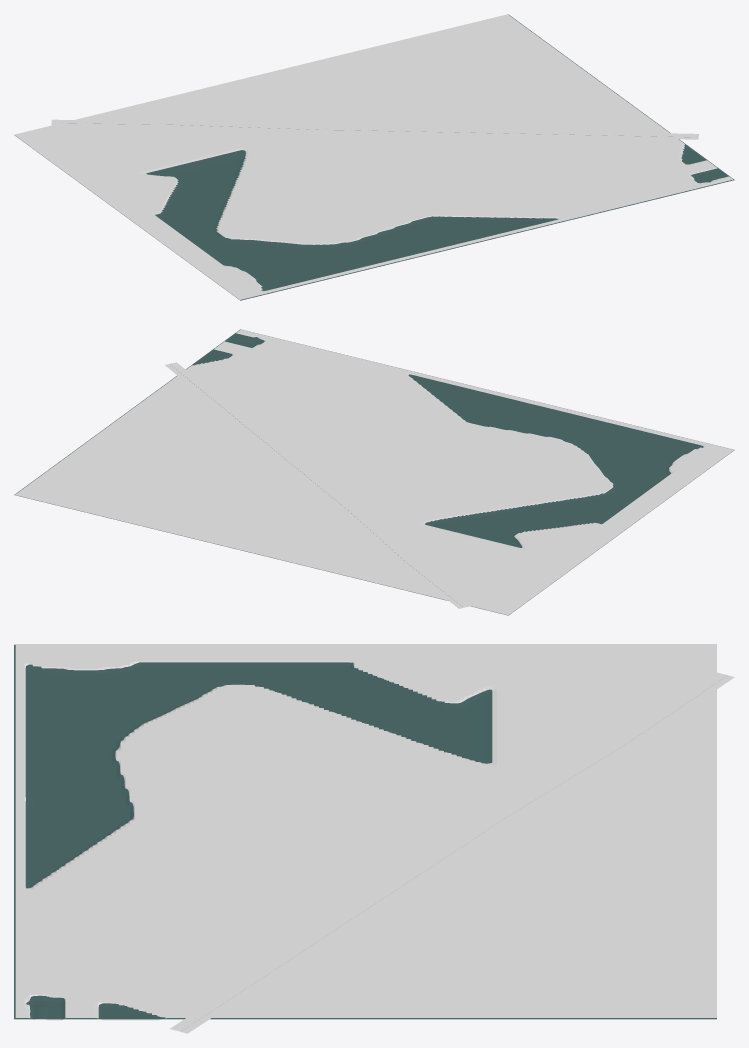
Rendered from grammy_ground.glb.
3 renders of one model, top to bottom at view 1: azimuth 30°, elevation 25°; view 2: azimuth 150°, elevation 25°; view 3: azimuth 270°, elevation 25°, orthographic. The views are drawn at different scales.
Visible parts, largest first — view 1: terrain, lake, road_Waterways Blvd L, road_Waterways Blvd R, median_grass, road_SW 42nd Terrace, road_south loop, road_SW 11th St, gutter_Waterways Blvd L.001, gutter_Waterways Blvd R.001, gutter_Waterways Blvd L; view 2: terrain, lake, road_Waterways Blvd R, road_Waterways Blvd L, median_grass, road_SW 42nd Terrace, road_south loop, road_SW 11th St; view 3: terrain, lake, road_Waterways Blvd R, road_Waterways Blvd L, median_grass, road_SW 42nd Terrace, road_south loop, road_SW 11th St, road_SW 42nd Way, gutter_Waterways Blvd R, gutter_Waterways Blvd R.001, gutter_Waterways Blvd L (+3 smaller).
Boxes of the visible parts, <box> form: terrain: <box>14,14,732,299</box>; lake: <box>14,14,734,300</box>; road_Waterways Blvd L: <box>51,123,698,139</box>; road_Waterways Blvd R: <box>51,120,698,135</box>; median_grass: <box>51,122,698,137</box>; road_SW 42nd Terrace: <box>293,155,531,161</box>; road_south loop: <box>273,196,456,227</box>; road_SW 11th St: <box>267,132,301,214</box>; gutter_Waterways Blvd L.001: <box>52,123,698,137</box>; gutter_Waterways Blvd R.001: <box>52,119,698,134</box>; gutter_Waterways Blvd L: <box>51,125,697,139</box>; terrain: <box>15,329,733,615</box>; lake: <box>14,329,734,615</box>; road_Waterways Blvd R: <box>165,364,462,608</box>; road_Waterways Blvd L: <box>173,362,469,606</box>; median_grass: <box>170,363,465,607</box>; road_SW 42nd Terrace: <box>301,413,415,502</box>; road_south loop: <box>416,420,555,477</box>; road_SW 11th St: <box>361,481,544,512</box>; terrain: <box>15,644,716,1020</box>; lake: <box>14,644,716,1019</box>; road_Waterways Blvd R: <box>181,675,733,1033</box>; road_Waterways Blvd L: <box>170,672,722,1030</box>; median_grass: <box>177,674,726,1031</box>; road_SW 42nd Terrace: <box>231,785,431,917</box>; road_south loop: <box>165,725,248,846</box>; road_SW 11th St: <box>261,726,504,808</box>; road_SW 42nd Way: <box>208,759,357,804</box>; gutter_Waterways Blvd R: <box>181,675,728,1031</box>; gutter_Waterways Blvd R.001: <box>187,677,734,1033</box>; gutter_Waterways Blvd L: <box>170,672,716,1028</box>.
Size of what is drawn, in the model's own units: 603 by 1.87 by 472.
